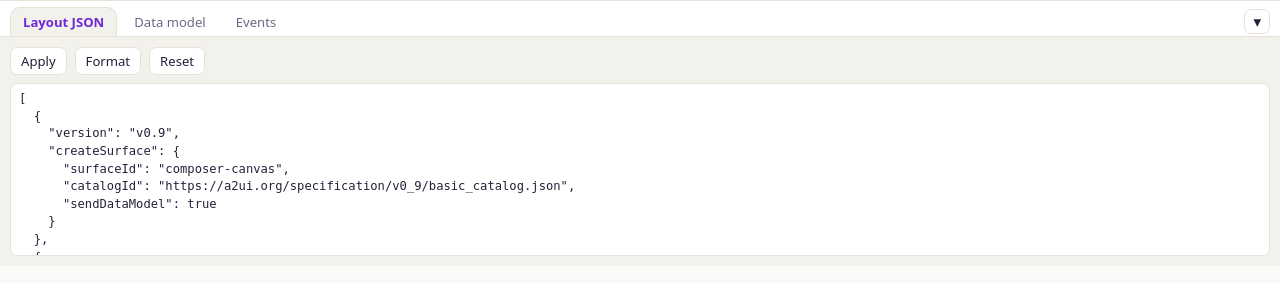
Test case: Data model and Events tabs › lists events newest-first with console level styling
Step 1. Click the tab "Events" → (256, 22), box [223,7,289,36]
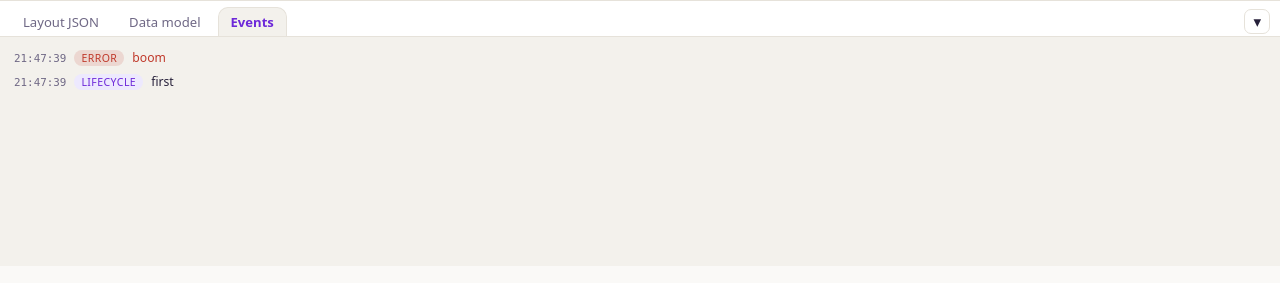
Check: the number of list items with class "event-row" is 2, box [14,49,166,66]; [14,73,174,90]
Check: the list item with class "event-row" shows "boom", box [132,49,166,66]
Check: the list item with class "event-row" shows "first", box [151,73,174,90]
